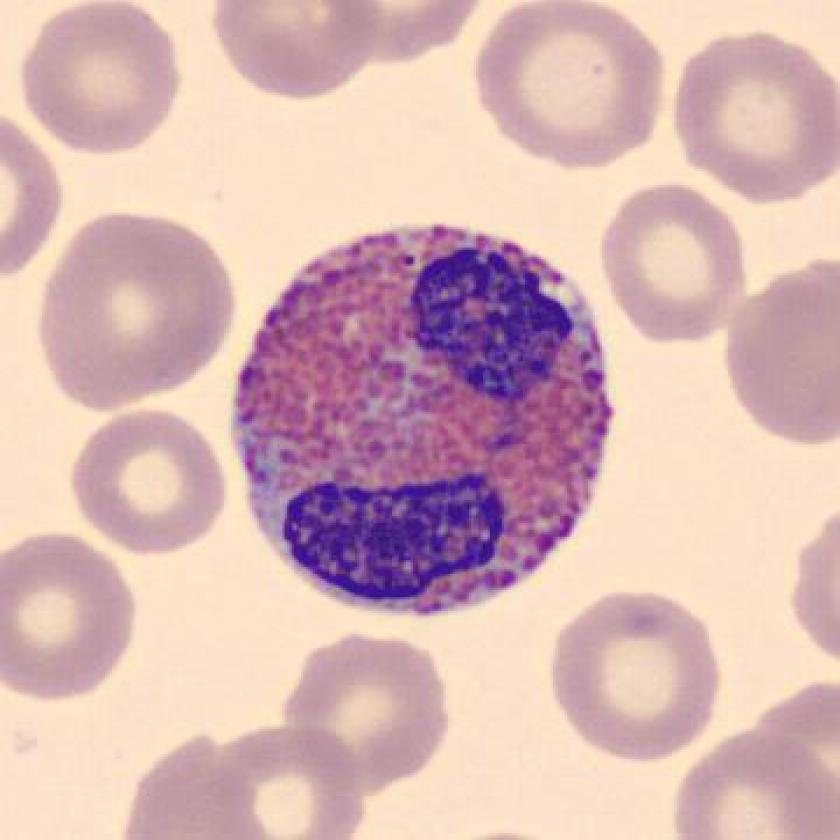eosinophil: (213, 205, 624, 631)
